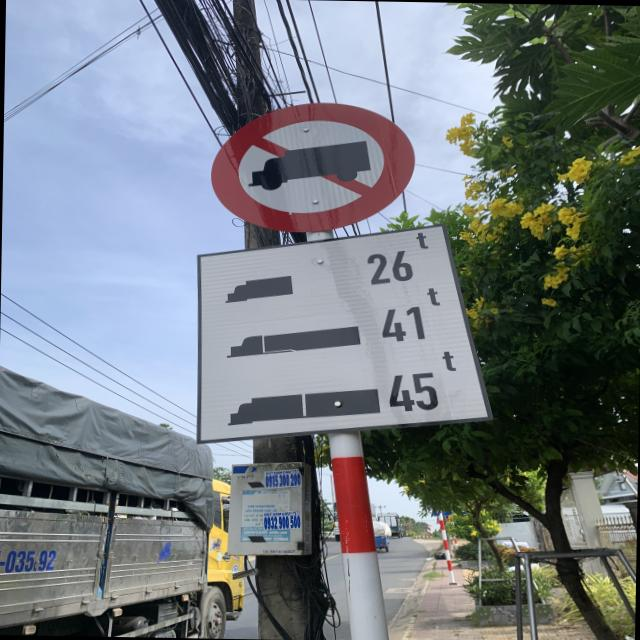Cam_Xe_Tai: (210, 97, 413, 233)
